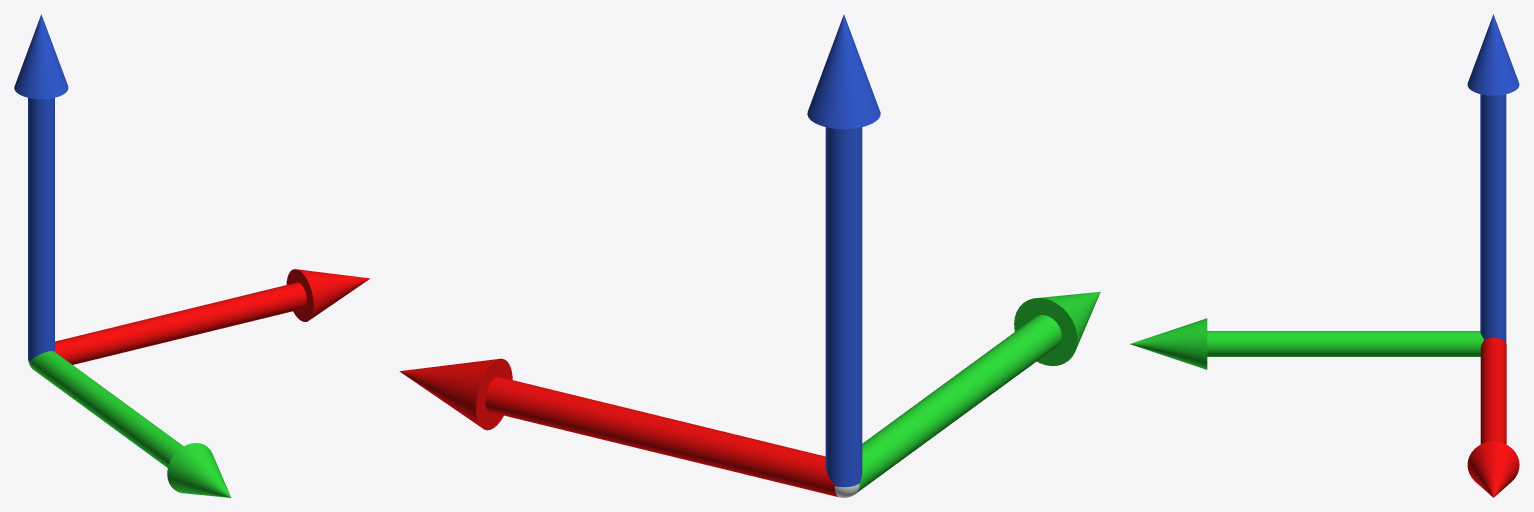
Rendered from xyz_axis.glb.
3 views of the same model, side by side, from view 1: azimuth 30°, elevation 25°; view 2: azimuth 150°, elevation 25°; view 3: azimuth 270°, elevation 25° (orthographic). The views are drawn at different scales.
Visible parts, largest first — view 1: Object_5, Object_3, Object_4; view 2: Object_5, Object_3, Object_4; view 3: Object_4, Object_5, Object_3.
Part boxes in pixels (x1,y1,x2,y2): Object_5: (14, 14, 68, 360); Object_3: (54, 269, 370, 364); Object_4: (29, 351, 231, 497); Object_5: (807, 14, 880, 487); Object_3: (399, 358, 837, 496); Object_4: (856, 291, 1100, 493); Object_4: (1130, 318, 1483, 369); Object_5: (1467, 14, 1519, 342); Object_3: (1467, 338, 1519, 497).
Size of the model in its own units: 30.01 by 30.02 by 30.01.
